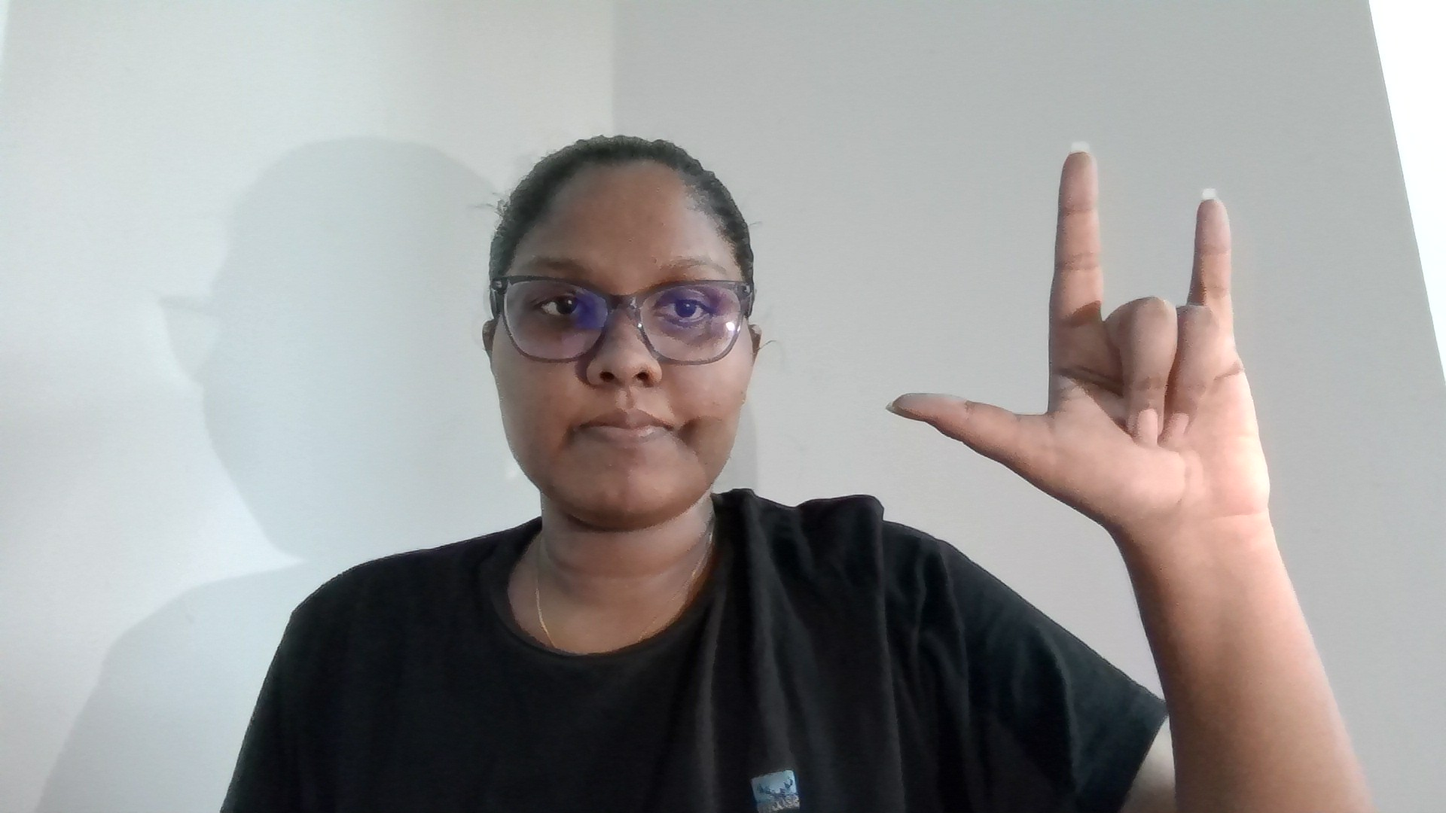Good_Luck: (887, 124, 1387, 683)
